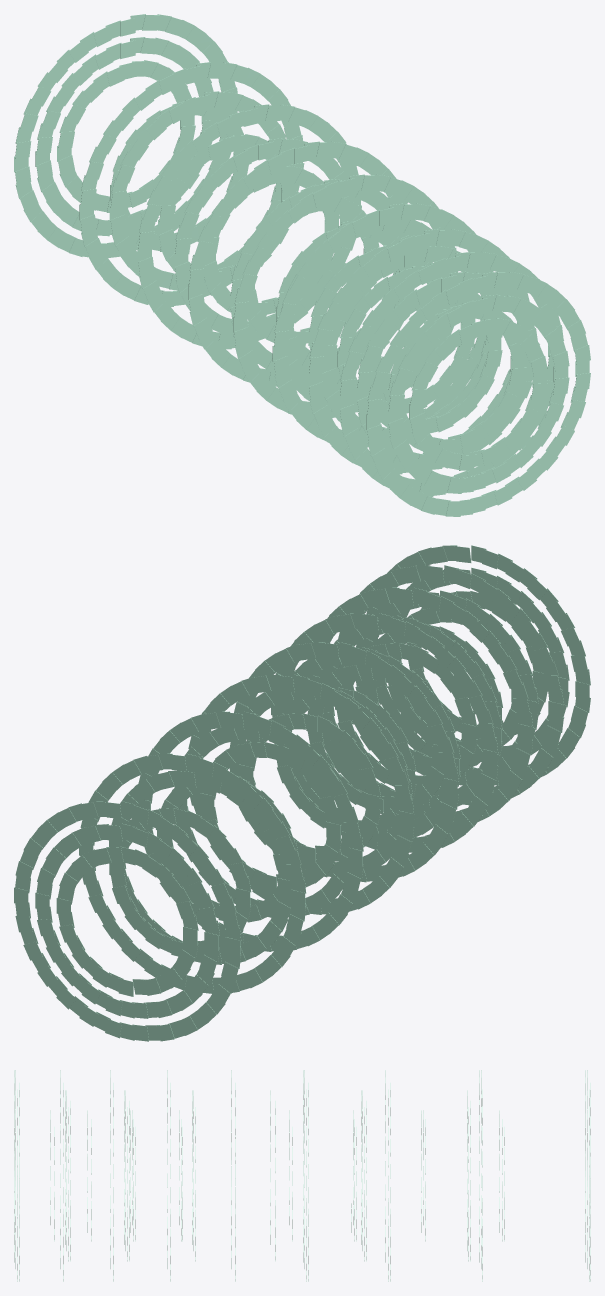
The model's file is ITK-Pixel-Layout-Outer-Endcap-SideC-cut4.glb.
3 renders of one model, top to bottom at view 1: azimuth 30°, elevation 25°; view 2: azimuth 150°, elevation 25°; view 3: azimuth 270°, elevation 25°, orthographic. The views are drawn at different scales.
Visible parts, largest first — view 1: ITK_Pixel_Layout_Outer_Endcap_SideC; view 2: ITK_Pixel_Layout_Outer_Endcap_SideC; view 3: ITK_Pixel_Layout_Outer_Endcap_SideC.
Boxes of the visible parts, <box> form: ITK_Pixel_Layout_Outer_Endcap_SideC: <box>14,14,590,516</box>; ITK_Pixel_Layout_Outer_Endcap_SideC: <box>14,545,590,1041</box>; ITK_Pixel_Layout_Outer_Endcap_SideC: <box>14,1070,590,1281</box>.
Size of the model in its own units: 0.6311 by 0.6311 by 1.72.
